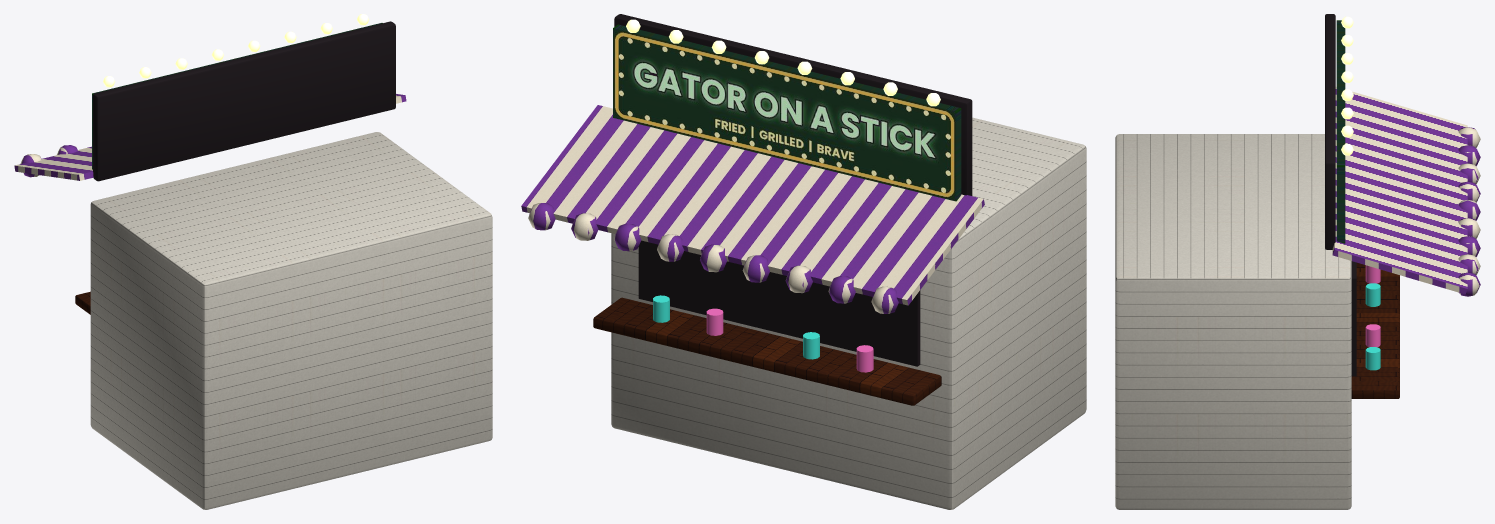
Rendered from stand-gatorstick.glb.
3 views of the same model, side by side, from view 1: azimuth 30°, elevation 25°; view 2: azimuth 150°, elevation 25°; view 3: azimuth 270°, elevation 25° (orthographic). The views are drawn at different scales.
Parts seen in each view (by area): view 1: stand-gatorstick; view 2: stand-gatorstick; view 3: stand-gatorstick.
Part boxes in pixels (x1,y1,x2,y2): stand-gatorstick: [14, 14, 492, 509]; stand-gatorstick: [521, 14, 1086, 509]; stand-gatorstick: [1115, 14, 1480, 509].
Size of the model in its own units: 3.6 by 3.68 by 3.4.
Materials: 8 (4 with a texture image).
